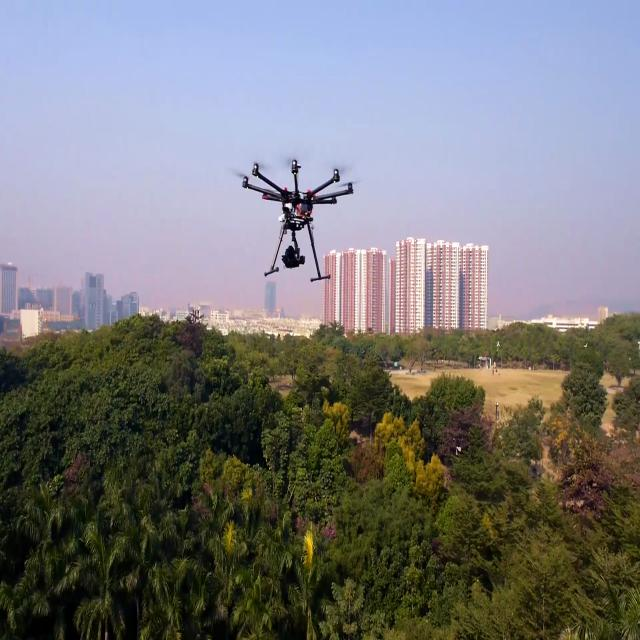drone: (223, 125, 373, 298)
